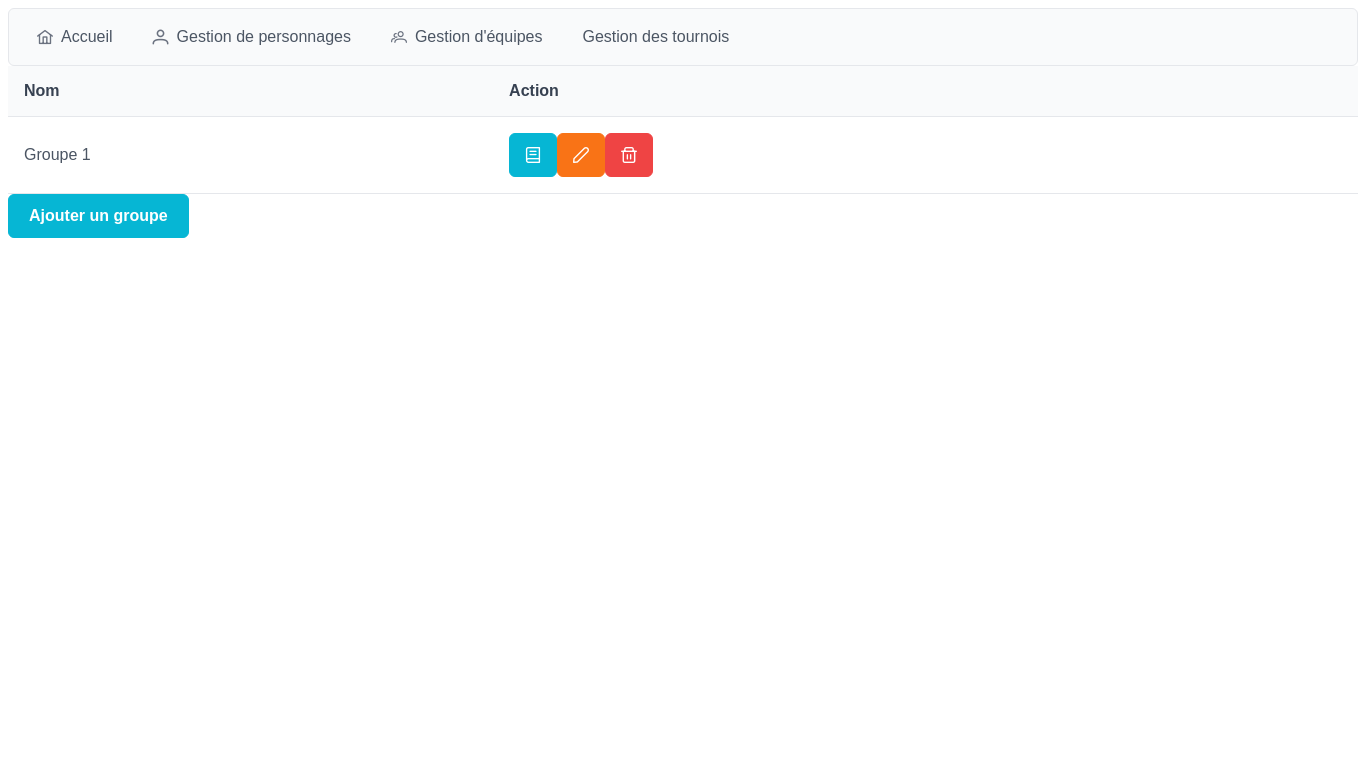
Scenario: Tests parties › Voir les détails d'un groupe
What coordinates should you click on to do the following:
click the 1st button named "Detail"
I would click on:
 (533, 155)
Its box is [509,133,557,177].
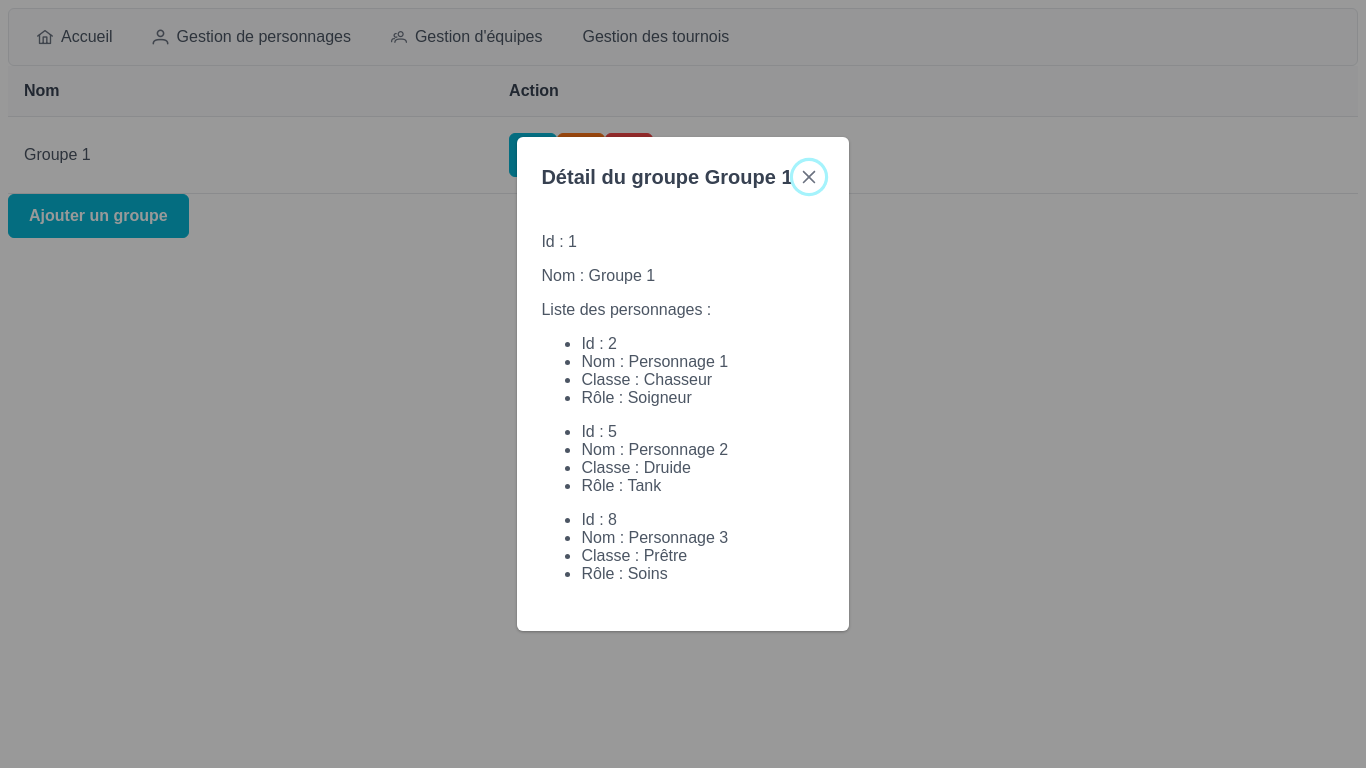
Expected: the text "Id : 1" is shown, [541,233,577,250]
Expected: the text "Nom : Groupe 1" is shown, [541,267,655,284]
Expected: the list item "Id : 2" is shown, [581,335,617,352]
